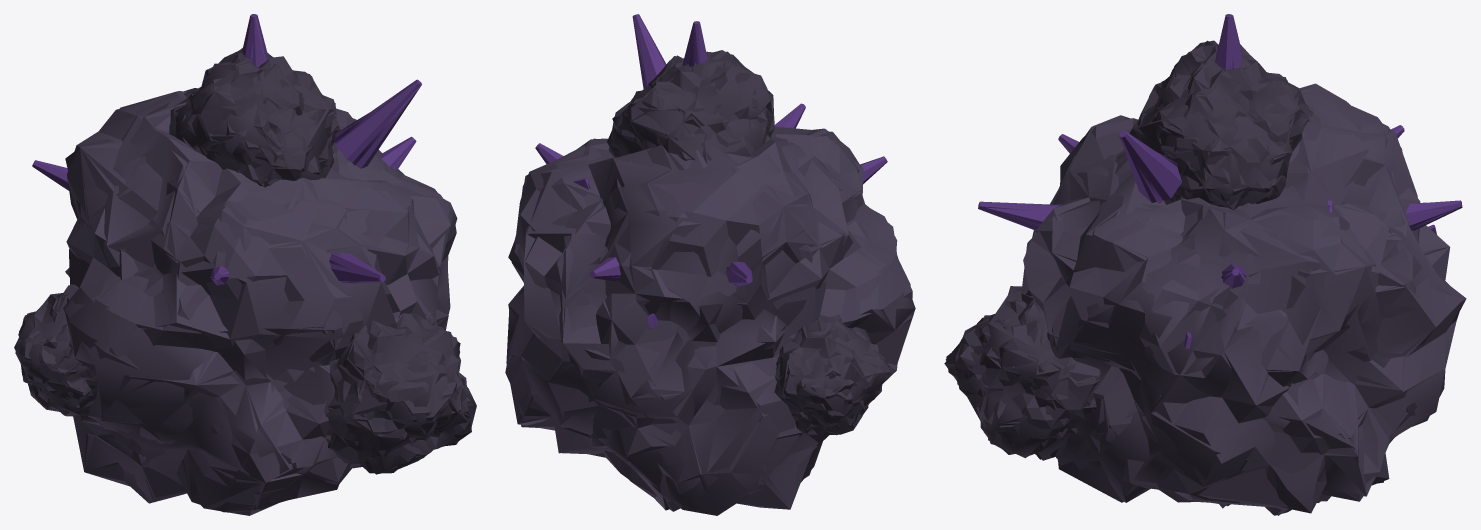
Rendered from place_rock_crystal_monolith.glb.
3 views of the same model, side by side, from view 1: azimuth 30°, elevation 25°; view 2: azimuth 150°, elevation 25°; view 3: azimuth 270°, elevation 25° (orthographic). The views are drawn at different scales.
Visible parts, largest first — view 1: LOD0_Stone, LOD2_Stone, LOD1_Stone, LOD0_Stone_deep, LOD2_Stone_deep, LOD1_Stone_deep, LOD0_CANOPY, LOD1_CANOPY; view 2: LOD2_Stone, LOD0_Stone, LOD1_Stone, LOD0_Stone_deep, LOD2_Stone_deep, LOD1_Stone_deep, LOD0_CANOPY, LOD1_CANOPY; view 3: LOD2_Stone, LOD0_Stone, LOD1_Stone, LOD0_Stone_deep, LOD1_Stone_deep, LOD2_Stone_deep, LOD0_CANOPY, LOD1_CANOPY.
Boxes of the visible parts, <box> form: LOD0_Stone: <box>63,91,456,512</box>; LOD2_Stone: <box>64,88,457,515</box>; LOD1_Stone: <box>66,91,456,512</box>; LOD0_Stone_deep: <box>16,50,472,473</box>; LOD2_Stone_deep: <box>14,55,476,471</box>; LOD1_Stone_deep: <box>15,48,475,474</box>; LOD0_CANOPY: <box>32,14,421,285</box>; LOD1_CANOPY: <box>32,15,421,284</box>; LOD2_Stone: <box>506,126,915,515</box>; LOD0_Stone: <box>505,128,911,515</box>; LOD1_Stone: <box>505,135,912,514</box>; LOD0_Stone_deep: <box>609,50,889,436</box>; LOD2_Stone_deep: <box>608,51,889,434</box>; LOD1_Stone_deep: <box>607,51,890,435</box>; LOD0_CANOPY: <box>535,14,887,328</box>; LOD1_CANOPY: <box>536,15,887,285</box>; LOD2_Stone: <box>1021,89,1462,515</box>; LOD0_Stone: <box>1023,83,1466,515</box>; LOD1_Stone: <box>1029,84,1463,515</box>; LOD0_Stone_deep: <box>946,40,1312,459</box>; LOD1_Stone_deep: <box>944,43,1312,460</box>; LOD2_Stone_deep: <box>945,40,1309,459</box>; LOD0_CANOPY: <box>978,14,1462,349</box>; LOD1_CANOPY: <box>978,15,1461,280</box>.
Size of what is drawn, in the model's own units: 15.2 by 17.25 by 16.41.
